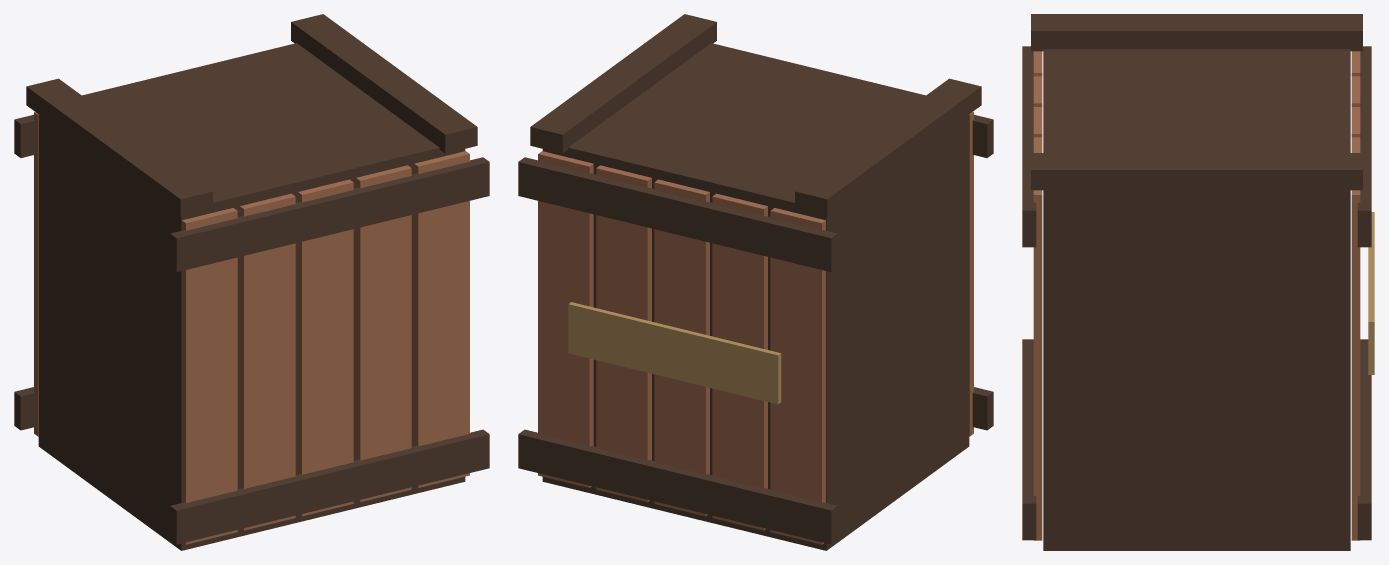
File: LP_ArtGallery_CrateNE.fbx
3 views of the same model, side by side, from view 1: azimuth 30°, elevation 25°; view 2: azimuth 150°, elevation 25°; view 3: azimuth 270°, elevation 25° (orthographic). The views are drawn at different scales.
Visible parts, largest first — view 1: Walnut, Terracotta; view 2: Walnut, Terracotta, AgedBrass; view 3: Walnut, Terracotta, AgedBrass.
Boxes of the visible parts, x1,y1,x2,y2 form: Walnut: [14, 14, 489, 550]; Terracotta: [34, 112, 469, 544]; Walnut: [518, 14, 993, 550]; Terracotta: [538, 112, 973, 544]; AgedBrass: [568, 302, 781, 404]; Walnut: [1022, 14, 1371, 550]; Terracotta: [1033, 51, 1360, 540]; AgedBrass: [1368, 212, 1374, 374].
Size of the model in its own units: 110 by 120 by 99.7.
